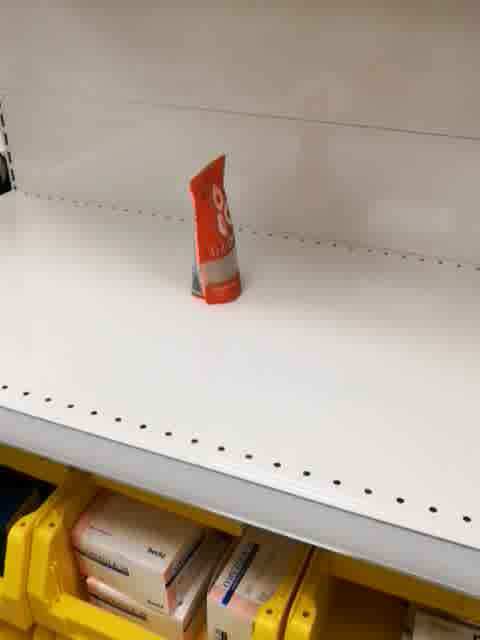whitechia: (188, 154, 242, 305)
